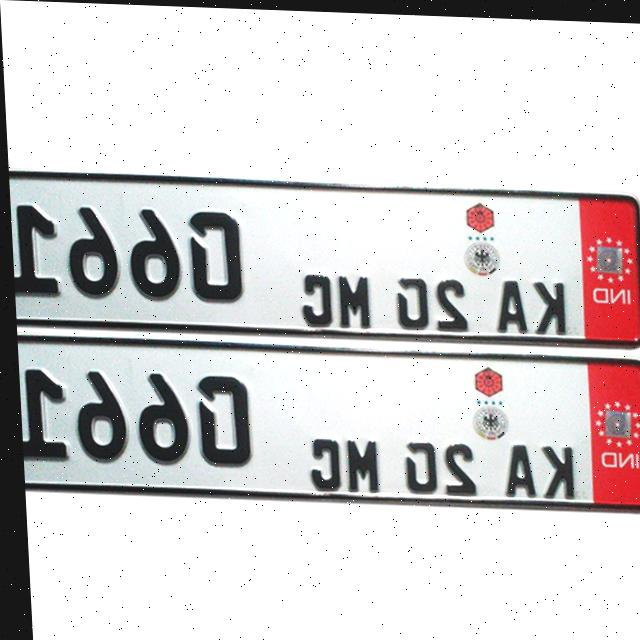plate: (14, 332, 640, 520), (7, 167, 640, 350)
